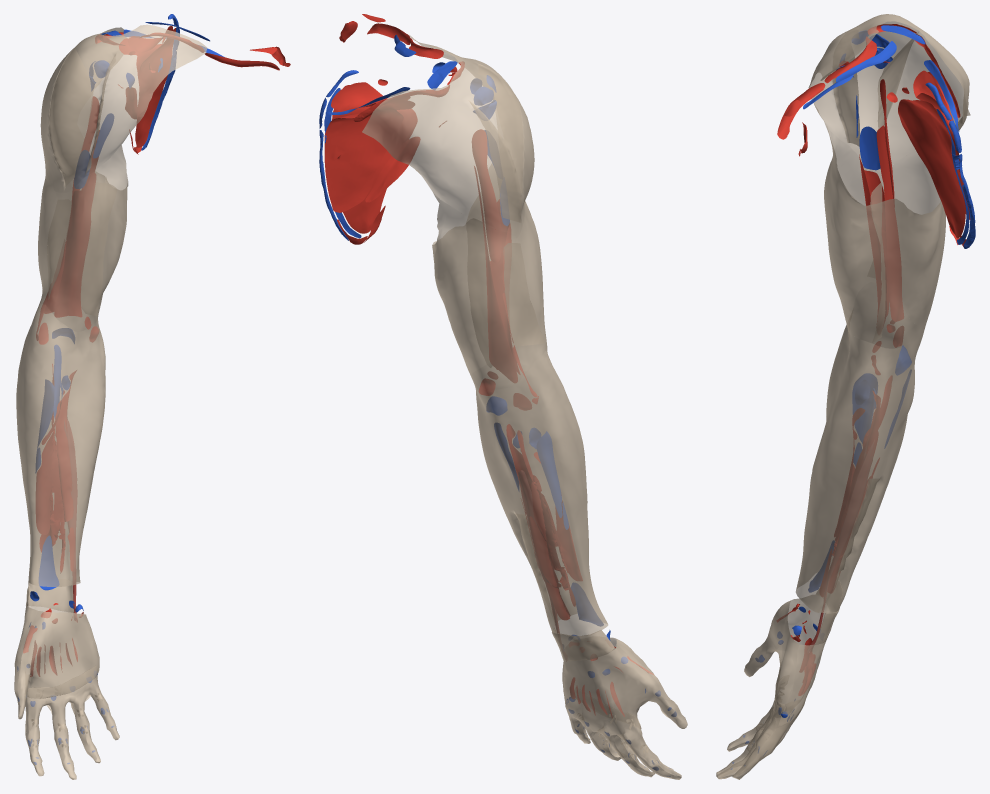
File: muscular.upper_limb_right.glb
The picture shows the model from 3 angles, left to right: view 1: azimuth 30°, elevation 25°; view 2: azimuth 150°, elevation 25°; view 3: azimuth 270°, elevation 25°; orthographic projection. The views are drawn at different scales.
Parts seen in each view (by area): view 1: right_antebrachial_fascia, right_deltoid_fascia, right_brachial_fascia, right_palmar_aponeurosis, right_dorsal_fascia_of_hand, right_brachialis_muscle_origin_humerus, right_medial_intermuscular_septum_of_arm, right_subscapularis_muscle_origin_scapula, right_ulnar_head_of_flexor_carpi_ulnaris_origin_ulna, right_lateral_intermuscular_septum_of_arm, right_flexor_pollicis_longus_origin_radius, right_extensor_retinaculum_of_wrist (+4 smaller); view 2: right_antebrachial_fascia, right_deltoid_fascia, right_brachial_fascia, right_dorsal_fascia_of_hand, right_palmar_aponeurosis, right_infraspinatus_muscle_origin_scapula, right_lateral_intermuscular_septum_of_arm, right_medial_intermuscular_septum_of_arm, right_subscapularis_muscle_origin_scapula, right_medial_head_of_triceps_brachii_origin_humerus, right_lateral_head_of_triceps_brachii_origin_humerus, right_extensor_retinaculum_of_wrist (+9 smaller); view 3: right_antebrachial_fascia, right_brachial_fascia, right_deltoid_fascia, right_dorsal_fascia_of_hand, right_palmar_aponeurosis, right_subscapularis_muscle_origin_scapula, right_medial_head_of_triceps_brachii_origin_humerus, right_brachialis_muscle_origin_humerus, right_ulnar_head_of_extensor_carpi_ulnaris, right_medial_intermuscular_septum_of_arm, right_supinator_insertion_radius, right_ulnar_head_of_flexor_carpi_ulnaris_origin_ulna (+10 smaller).
Boxes of the visible parts, left/top/right/bottom form: right_antebrachial_fascia: left=16, top=303, right=105, bottom=586; right_deltoid_fascia: left=40, top=24, right=207, bottom=192; right_brachial_fascia: left=38, top=145, right=128, bottom=331; right_palmar_aponeurosis: left=17, top=611, right=119, bottom=779; right_dorsal_fascia_of_hand: left=14, top=606, right=118, bottom=779; right_brachialis_muscle_origin_humerus: left=54, top=172, right=95, bottom=317; right_medial_intermuscular_septum_of_arm: left=81, top=183, right=116, bottom=315; right_subscapularis_muscle_origin_scapula: left=135, top=28, right=175, bottom=147; right_ulnar_head_of_flexor_carpi_ulnaris_origin_ulna: left=54, top=370, right=76, bottom=521; right_lateral_intermuscular_septum_of_arm: left=47, top=200, right=71, bottom=296; right_flexor_pollicis_longus_origin_radius: left=36, top=432, right=53, bottom=534; right_extensor_retinaculum_of_wrist: left=26, top=579, right=73, bottom=612; right_antebrachial_fascia: left=471, top=351, right=608, bottom=636; right_deltoid_fascia: left=362, top=35, right=534, bottom=238; right_brachial_fascia: left=430, top=164, right=547, bottom=389; right_dorsal_fascia_of_hand: left=562, top=644, right=687, bottom=779; right_palmar_aponeurosis: left=563, top=637, right=686, bottom=777; right_infraspinatus_muscle_origin_scapula: left=324, top=100, right=414, bottom=212; right_lateral_intermuscular_septum_of_arm: left=504, top=243, right=544, bottom=345; right_medial_intermuscular_septum_of_arm: left=466, top=218, right=491, bottom=367; right_subscapularis_muscle_origin_scapula: left=332, top=85, right=417, bottom=233; right_medial_head_of_triceps_brachii_origin_humerus: left=474, top=166, right=517, bottom=382; right_lateral_head_of_triceps_brachii_origin_humerus: left=472, top=129, right=501, bottom=262; right_extensor_retinaculum_of_wrist: left=552, top=628, right=615, bottom=661; right_antebrachial_fascia: left=795, top=282, right=922, bottom=612; right_brachial_fascia: left=823, top=120, right=945, bottom=348; right_deltoid_fascia: left=808, top=14, right=970, bottom=164; right_dorsal_fascia_of_hand: left=718, top=595, right=829, bottom=779; right_palmar_aponeurosis: left=716, top=598, right=800, bottom=778; right_subscapularis_muscle_origin_scapula: left=898, top=99, right=965, bottom=238; right_medial_head_of_triceps_brachii_origin_humerus: left=876, top=125, right=903, bottom=321; right_brachialis_muscle_origin_humerus: left=859, top=154, right=889, bottom=325; right_ulnar_head_of_extensor_carpi_ulnaris: left=807, top=439, right=874, bottom=652; right_medial_intermuscular_septum_of_arm: left=870, top=182, right=884, bottom=341; right_supinator_insertion_radius: left=852, top=373, right=877, bottom=443; right_ulnar_head_of_flexor_carpi_ulnaris_origin_ulna: left=835, top=391, right=880, bottom=540.
Size of the model in its own units: 0.3198 by 0.7027 by 0.2005.
